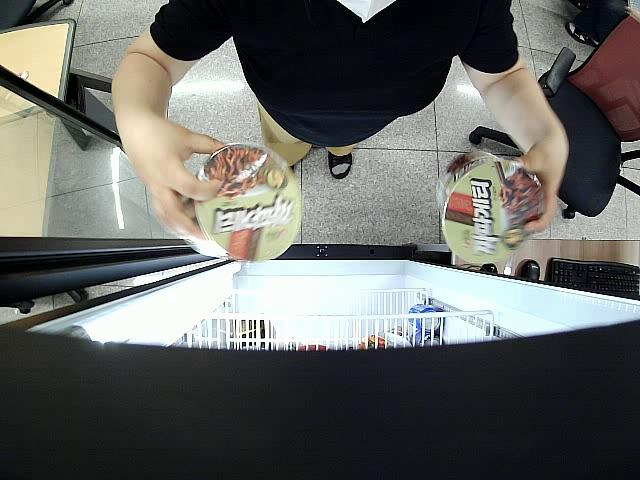00_hand: (127, 117, 225, 237), (513, 139, 566, 233)
03_chapagetti_L: (178, 144, 303, 261), (438, 150, 544, 265)
